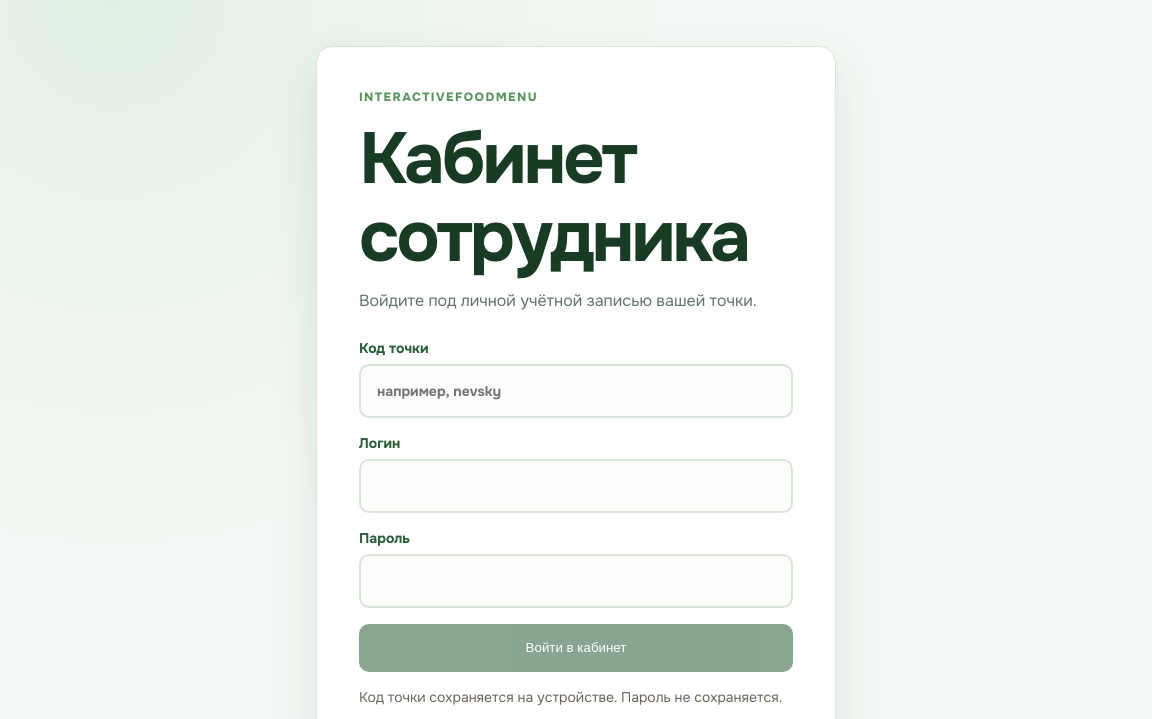
staff application flow › ignores a delayed mutation from the logged-out employee
Type "wintercafe123" into the field labelled "Код точки". click: (576,391)
box: [359,364,793,418]
Type "worker" into the field labelled "Логин". click: (576,486)
box: [359,459,793,513]
Type "personal-password" into the password field labelled "Пароль". click: (576,581)
box: [359,554,793,608]
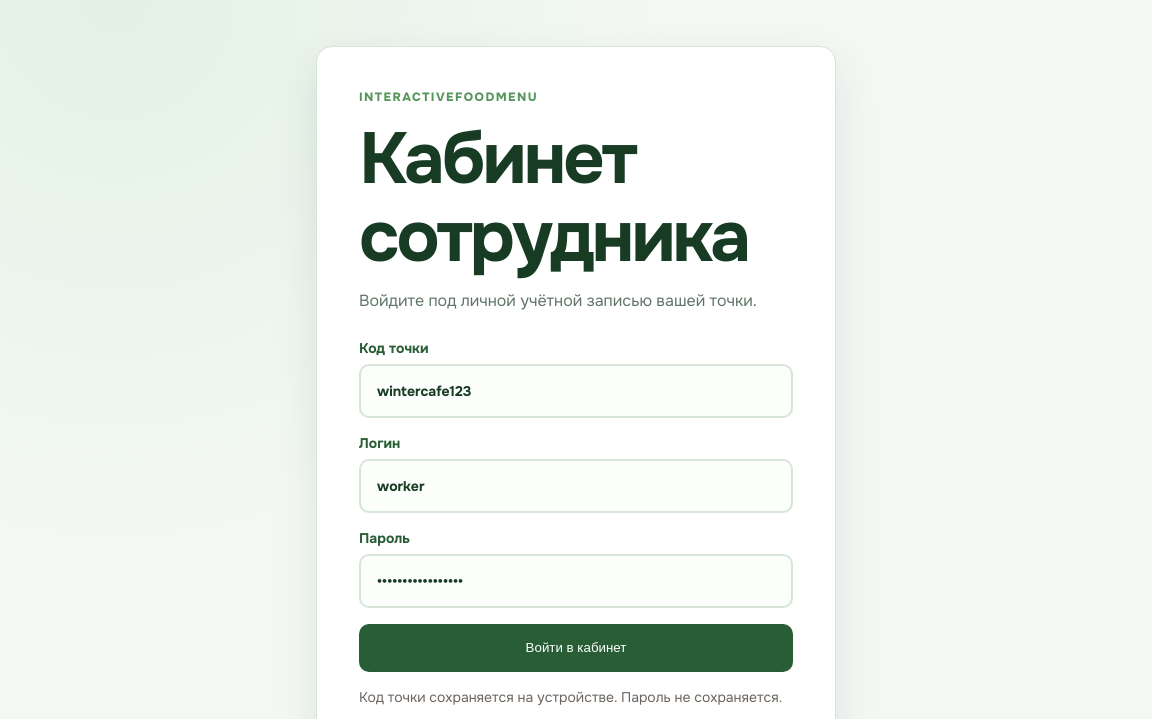
Click the button "Войти в кабинет". click: (576,648)
box: [359,624,793,672]
(page scrolled)
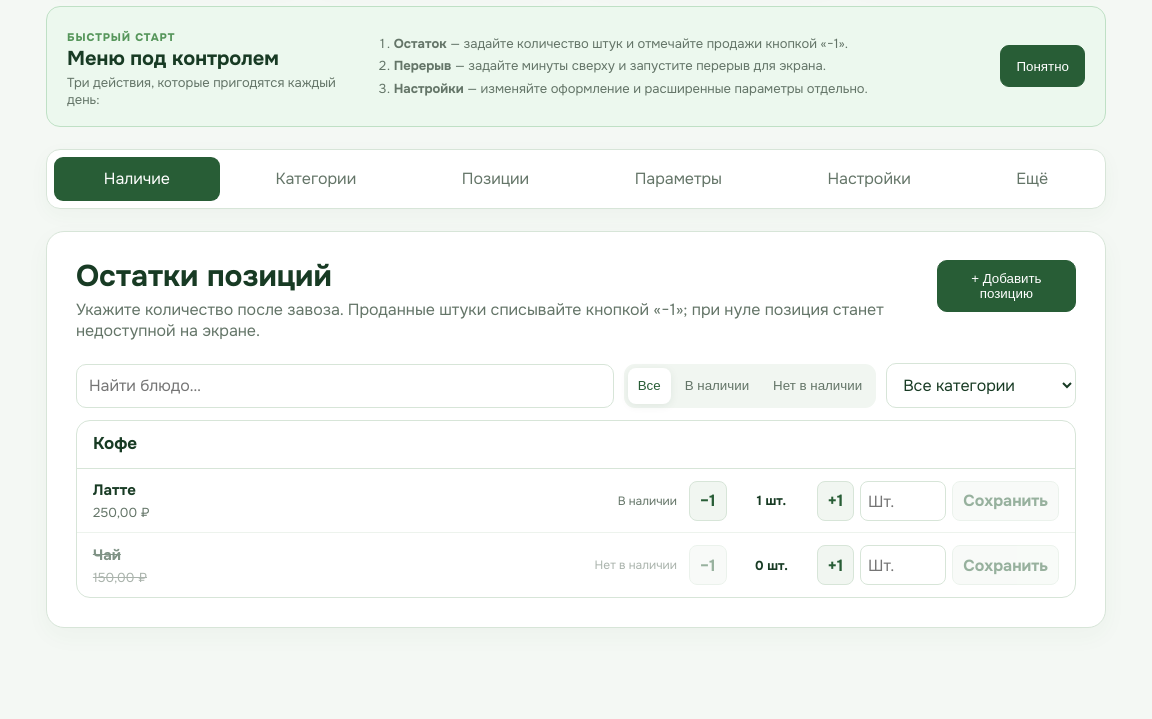
Click the button named "Списать одну штуку Латте". click: (708,501)
box: [689,481,726,521]
(page scrolled)
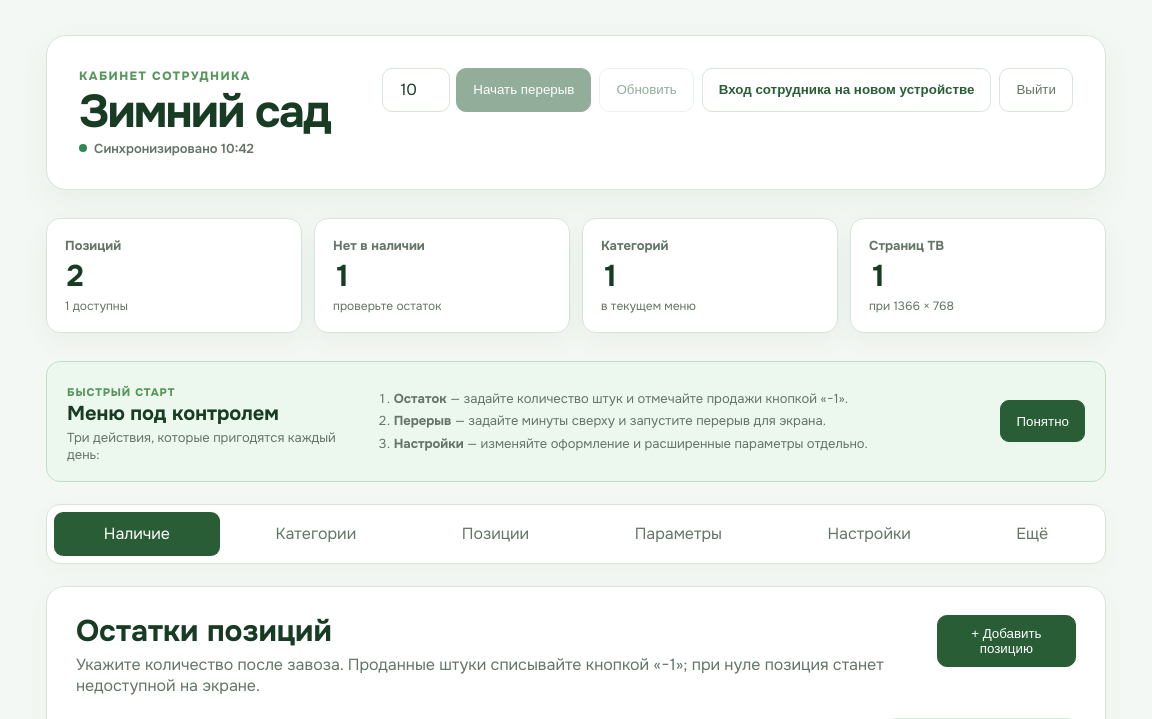
Click the button "Выйти". click: (1036,90)
box: [1000,68,1073,112]
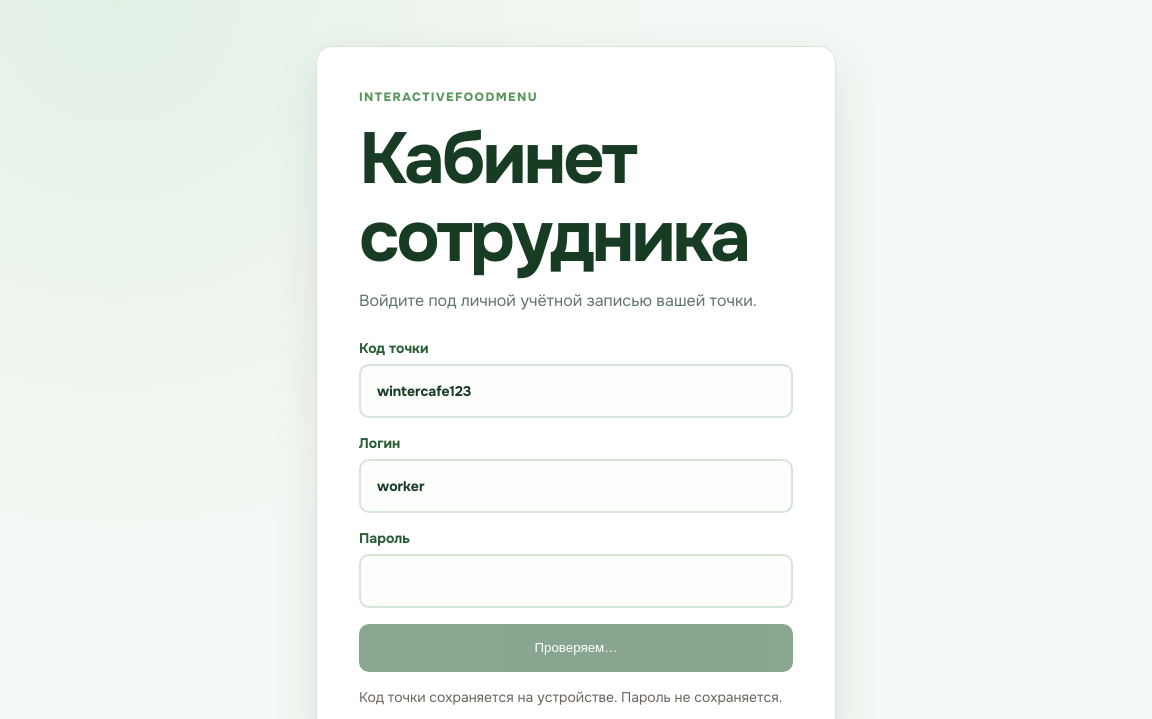
Type "personal-password" into the password field labelled "Пароль". click: (576,581)
box: [359,554,793,608]
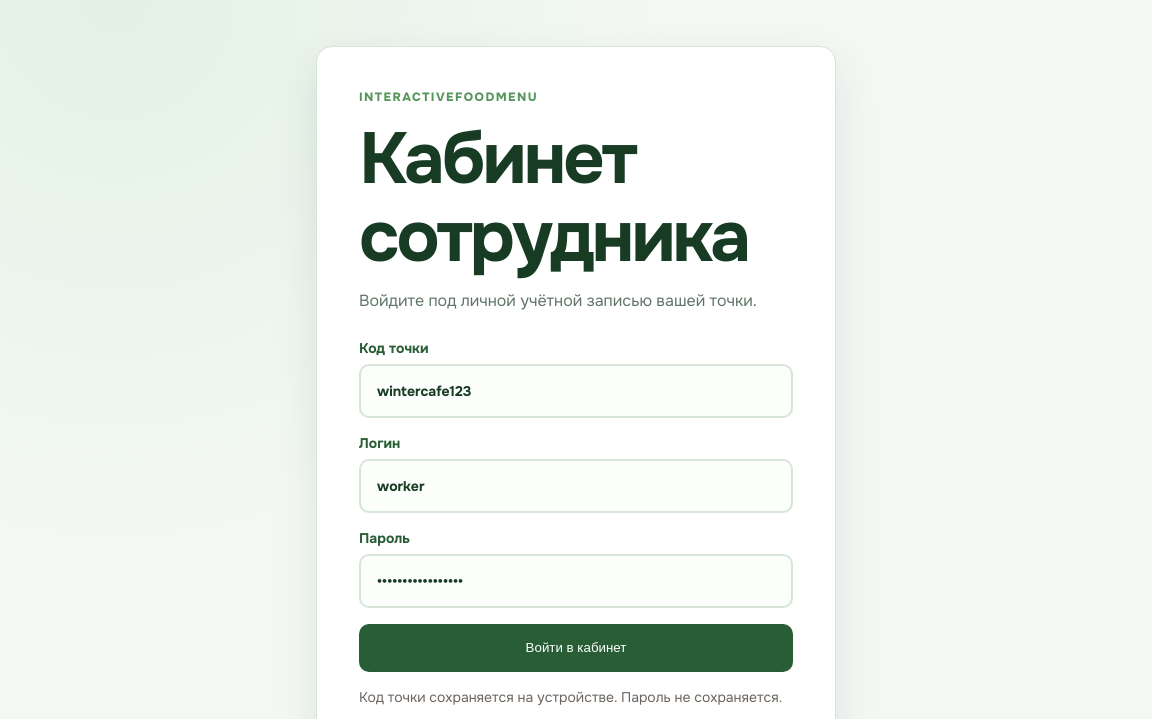
Now the button "Войти в кабинет" is enabled
Click the button "Войти в кабинет". click: (576,648)
box: [359,624,793,672]
(page scrolled)
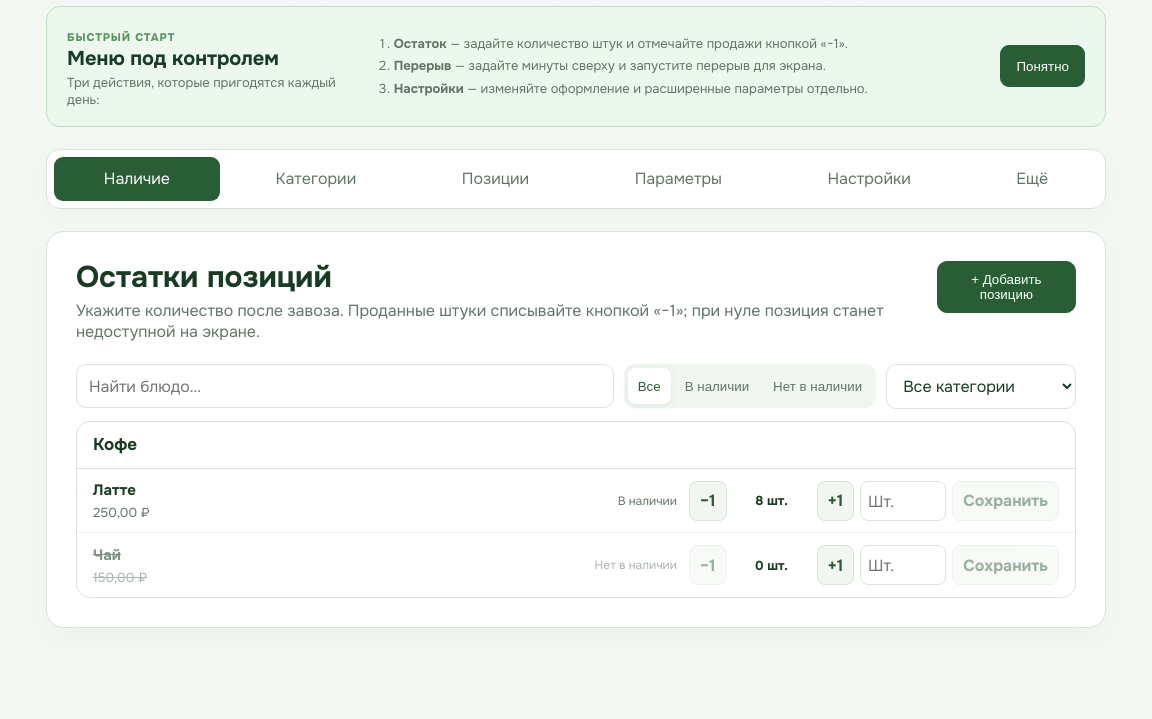
Now the text "8 шт." is shown, box [755,492,788,509]
